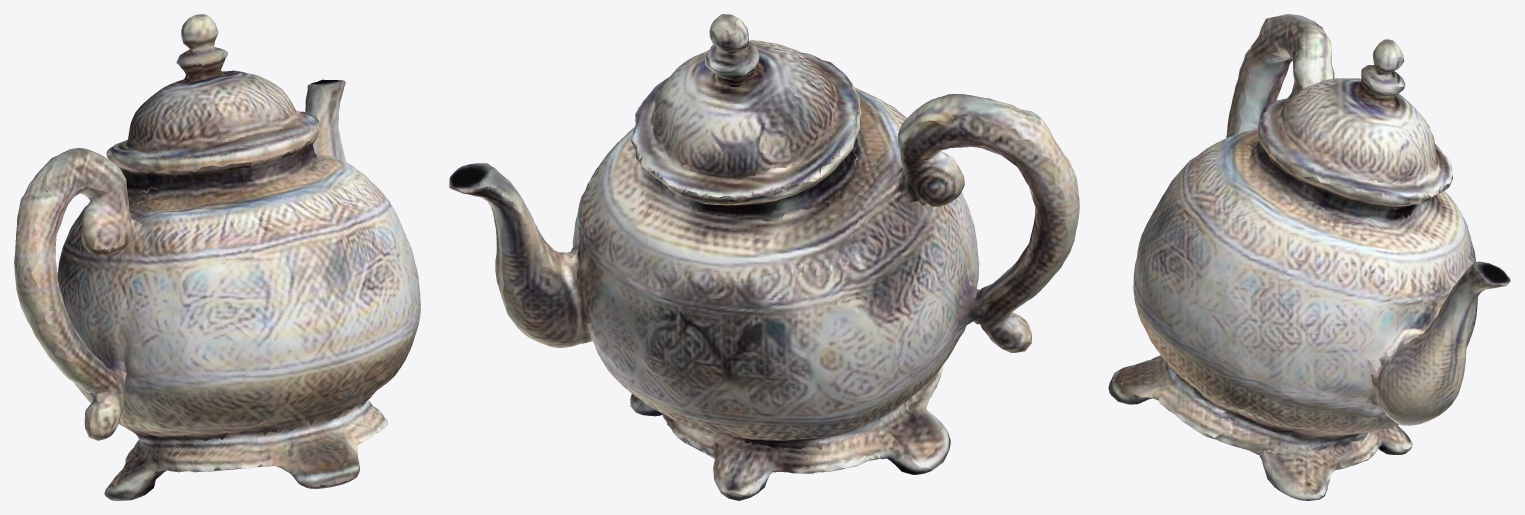
3 renders of one model, left to right at view 1: azimuth 30°, elevation 25°; view 2: azimuth 150°, elevation 25°; view 3: azimuth 270°, elevation 25°, orthographic. The views are drawn at different scales.
Visible parts, largest first — view 1: world; view 2: world; view 3: world.
Part boxes in pixels (box(x1,y1,x2,y2)): world: box(14, 14, 420, 500); world: box(449, 14, 1079, 500); world: box(1108, 14, 1510, 500).
Size of the model in its own units: 0.9958 by 0.9168 by 0.8026.
Materials: 1 (1 with a texture image).
